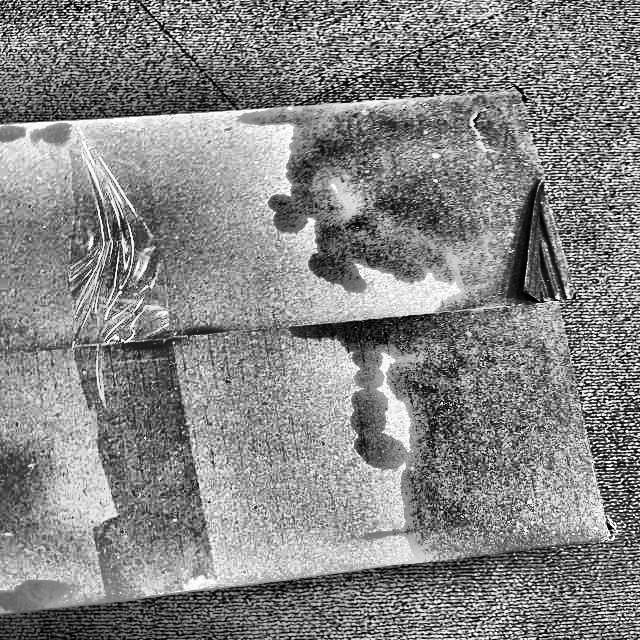box: (1, 77, 627, 620)
wet: (309, 86, 623, 568)
